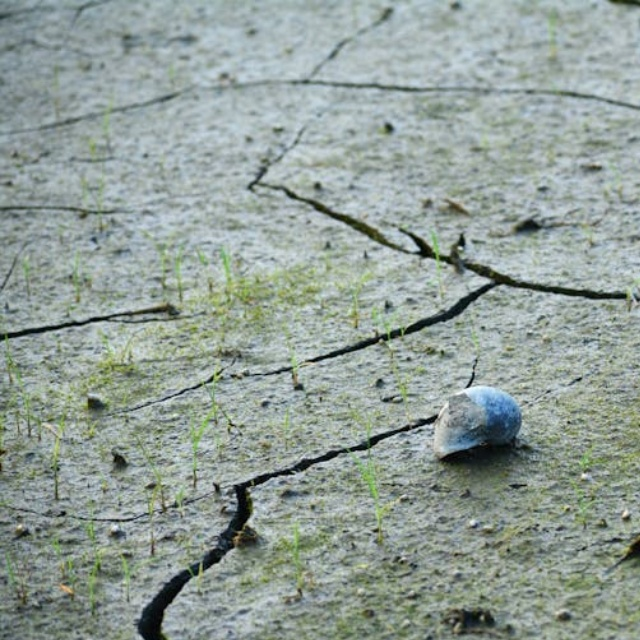细微裂纹: (0, 53, 640, 151), (206, 268, 590, 356), (0, 287, 195, 360)
